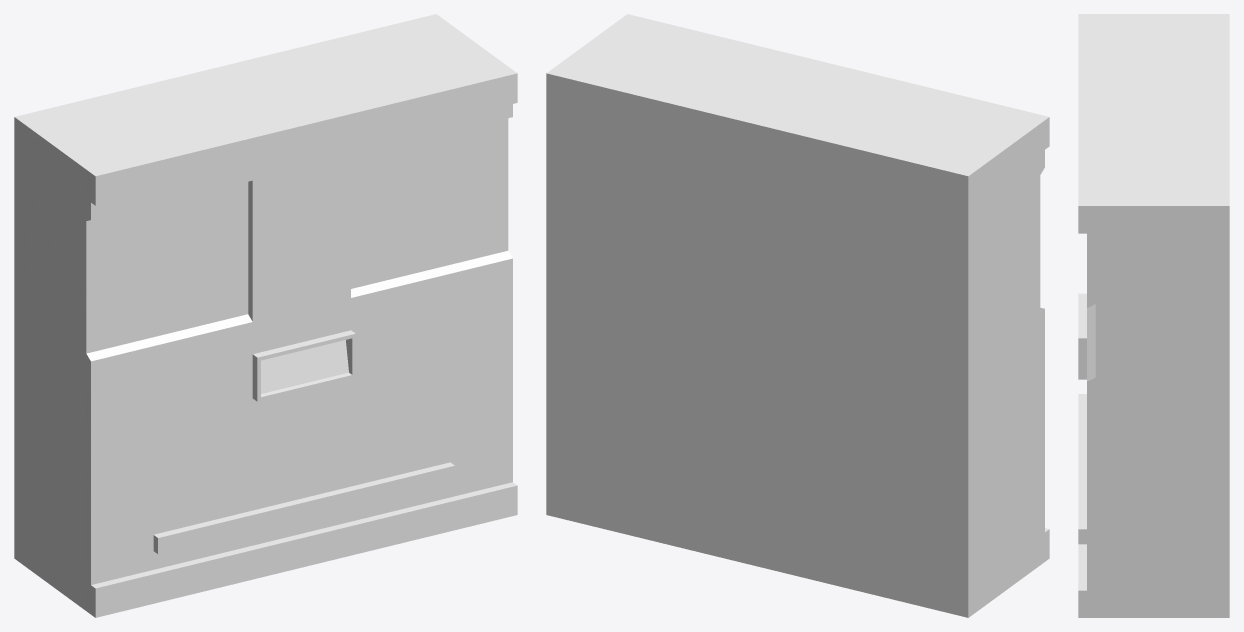
Rendered from Wall_DoubleBubble.glb.
The picture shows the model from 3 angles, left to right: view 1: azimuth 30°, elevation 25°; view 2: azimuth 150°, elevation 25°; view 3: azimuth 270°, elevation 25°; orthographic projection. The views are drawn at different scales.
Parts seen in each view (by area): view 1: Wall_DoubleBubble; view 2: Wall_DoubleBubble; view 3: Wall_DoubleBubble.
Boxes of the visible parts, <box> form: Wall_DoubleBubble: <box>14,14,517,617</box>; Wall_DoubleBubble: <box>546,14,1049,617</box>; Wall_DoubleBubble: <box>1078,14,1229,617</box>.
Bounding box in the file's own units: 3 × 3 × 1.
Materials: 1 (1 with a texture image).
